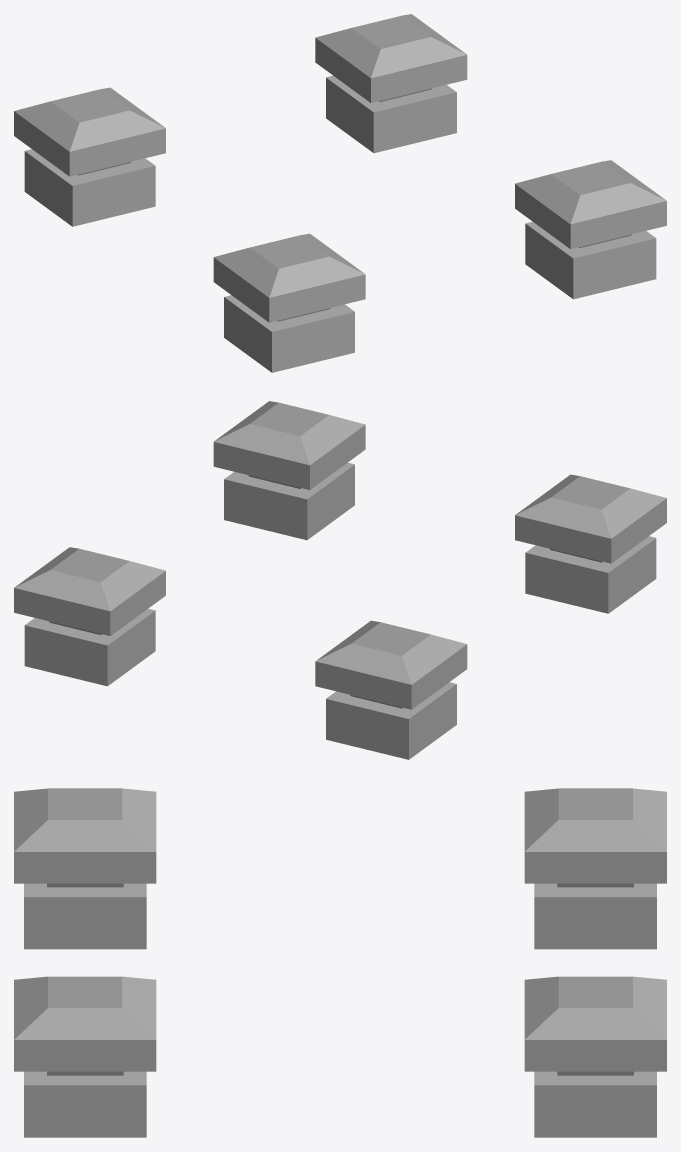
File: Apartment_UP.fbx
3 views of the same model, one above another, from view 1: azimuth 30°, elevation 25°; view 2: azimuth 150°, elevation 25°; view 3: azimuth 270°, elevation 25° (orthographic). The views are drawn at different scales.
Parts seen in each view (by area): view 1: Apartment_UP; view 2: Apartment_UP; view 3: Apartment_UP.
Boxes of the visible parts, left/top/right/bottom form: Apartment_UP: left=14, top=14, right=666, bottom=372; Apartment_UP: left=14, top=401, right=666, bottom=759; Apartment_UP: left=14, top=788, right=666, bottom=1137.
Bounding box in the file's own units: 364 × 81.52 × 404.
